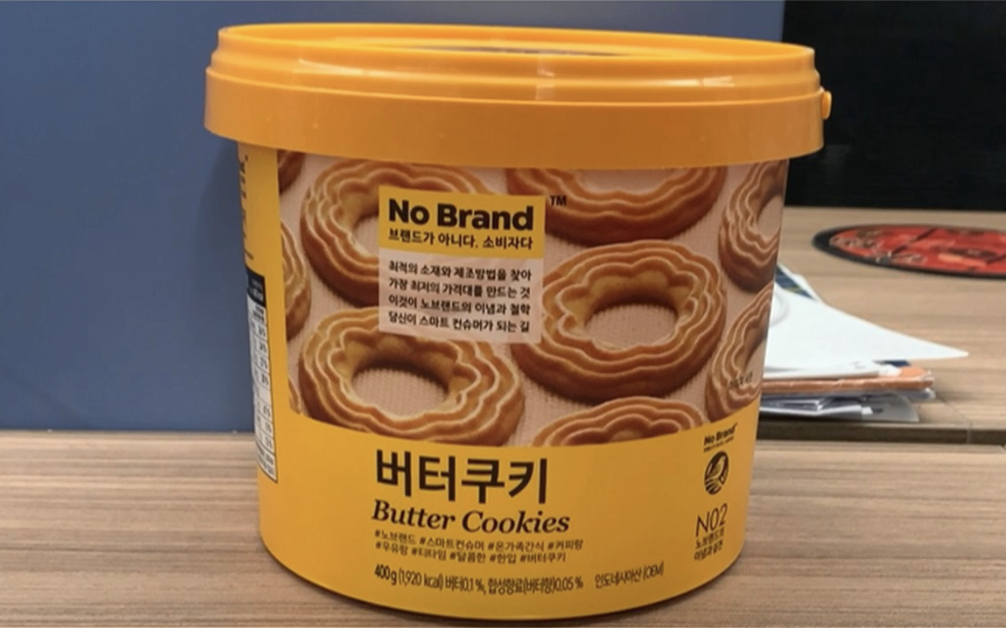cookies_400g-499g: (287, 155, 732, 577)
